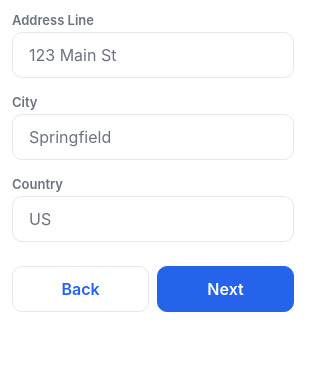
Test case: AddressStep › shows validation errors and does not advance when invalid
Step 1. Type "U" into the field with placeholder "US" → (153, 219), box [12,196,294,242]
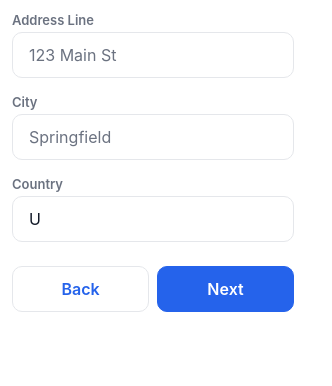
Step 2. Click the button "Next" → (226, 289), box [157,266,294,312]
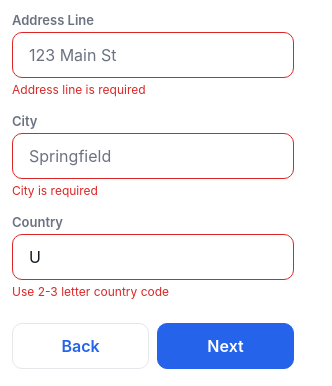
Expected: the text "Address line is required" is shown, [12,82,146,97]
Expected: the text "City is required" is shown, [12,183,98,198]
Expected: the text "Use 2-3 letter country code" is shown, [12,284,169,299]
